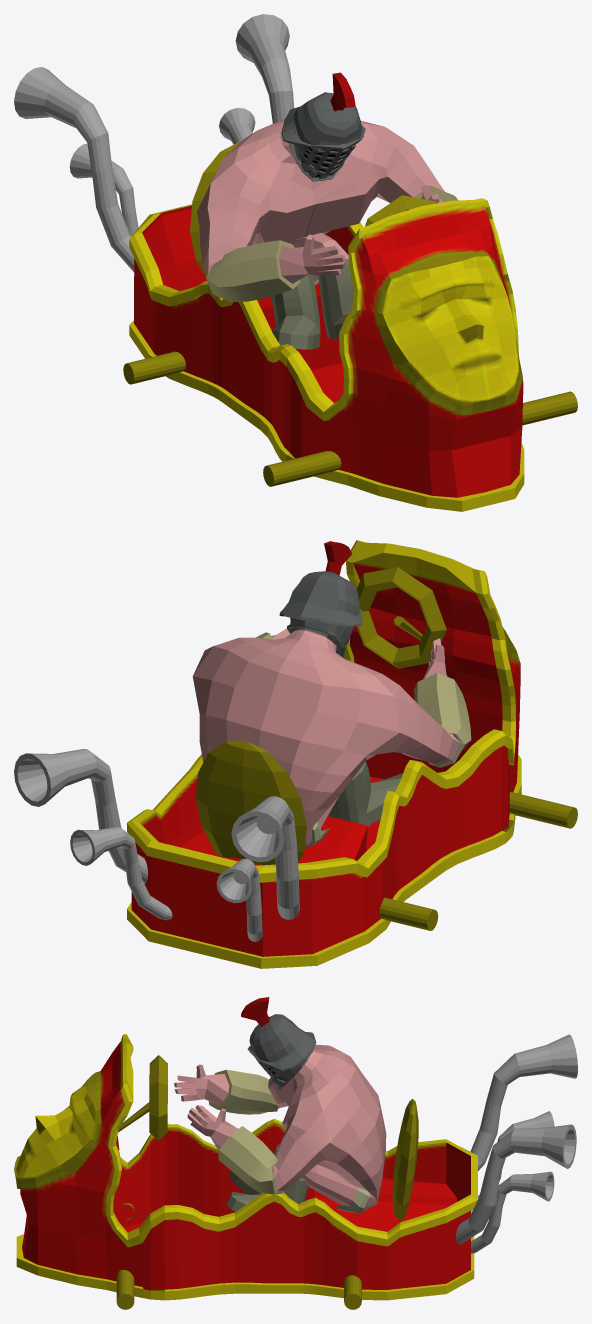
The model's file is GladiHabilidad_000535.obj.
3 renders of one model, top to bottom at view 1: azimuth 30°, elevation 25°; view 2: azimuth 150°, elevation 25°; view 3: azimuth 270°, elevation 25°, orthographic. The views are drawn at different scales.
Parts seen in each view (by area): view 1: GladiChasis_GladiChasisH, Gadiador_Gladiador_H.001, GladiTubos_GladiTubosH, GladiVolante_GladiVolanteH; view 2: GladiChasis_GladiChasisH, Gadiador_Gladiador_H.001, GladiVolante_GladiVolanteH, GladiTubos_GladiTubosH; view 3: GladiChasis_GladiChasisH, Gadiador_Gladiador_H.001, GladiTubos_GladiTubosH, GladiVolante_GladiVolanteH.
Part boxes in pixels (left/top/right/bottom): GladiChasis_GladiChasisH: left=129, top=198, right=524, bottom=511; Gadiador_Gladiador_H.001: left=197, top=72, right=458, bottom=349; GladiTubos_GladiTubosH: left=14, top=14, right=294, bottom=272; GladiVolante_GladiVolanteH: left=123, top=141, right=577, bottom=486; GladiChasis_GladiChasisH: left=127, top=540, right=521, bottom=968; Gadiador_Gladiador_H.001: left=192, top=541, right=471, bottom=846; GladiVolante_GladiVolanteH: left=195, top=567, right=577, bottom=930; GladiTubos_GladiTubosH: left=14, top=749, right=299, bottom=941; GladiChasis_GladiChasisH: left=14, top=1034, right=477, bottom=1300; Gadiador_Gladiador_H.001: left=174, top=997, right=386, bottom=1212; GladiTubos_GladiTubosH: left=456, top=1034, right=577, bottom=1253; GladiVolante_GladiVolanteH: left=116, top=1055, right=418, bottom=1309.
Bounding box in the file's own units: 5.46 × 5.46 × 10.78.
